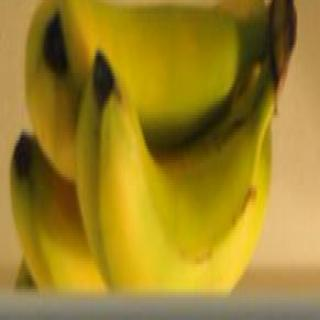banana: (1, 3, 320, 320)
